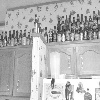beer: (56, 22, 63, 41)
